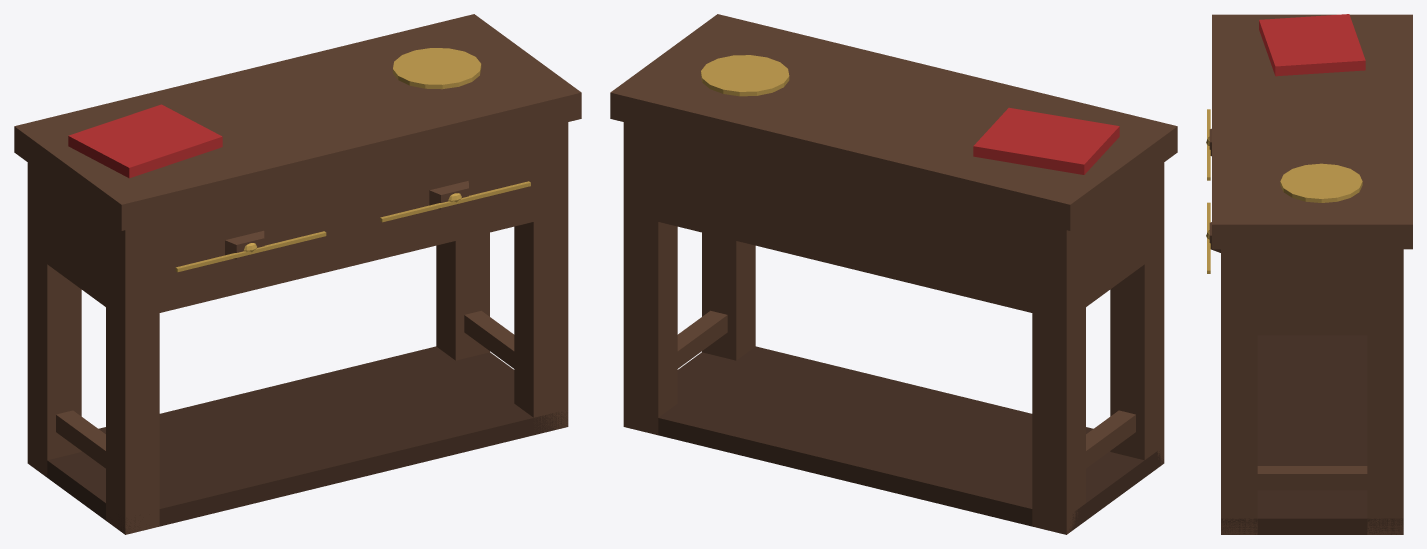
File: sideTableDrawers.glb
The picture shows the model from 3 angles, left to right: view 1: azimuth 30°, elevation 25°; view 2: azimuth 150°, elevation 25°; view 3: azimuth 270°, elevation 25°; orthographic projection. The views are drawn at different scales.
Parts seen in each view (by area): view 1: sideTableDrawers(Clone), drawerLeft, drawerRight; view 2: sideTableDrawers(Clone); view 3: sideTableDrawers(Clone), drawerRight, drawerLeft.
Boxes of the visible parts, box(x1,y1,x2,y2) form: sideTableDrawers(Clone): box(14, 14, 581, 534); drawerLeft: box(159, 202, 329, 286); drawerRight: box(364, 152, 533, 235); sideTableDrawers(Clone): box(610, 14, 1177, 534); sideTableDrawers(Clone): box(1212, 14, 1412, 534); drawerRight: box(1206, 202, 1220, 273); drawerLeft: box(1206, 109, 1211, 180).
Bounding box in the file's own units: 0.5345 × 0.3844 × 0.2223.
